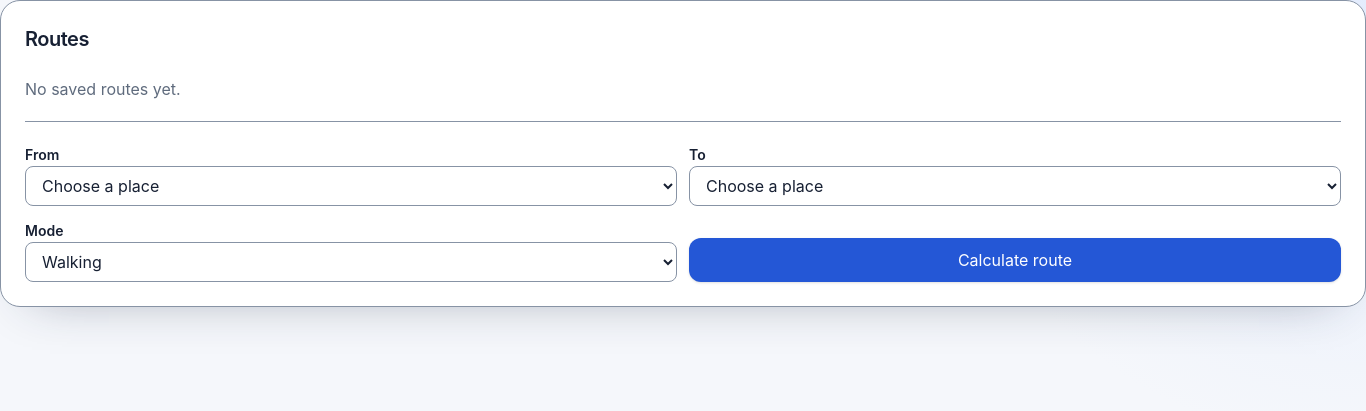
Test: RoutesSection › isolates provider errors and retains the editor
Select "Day 1 · 09:00 · Senso-ji" in the dropdown labelled "From" at (351, 186), box [25,166,677,206]
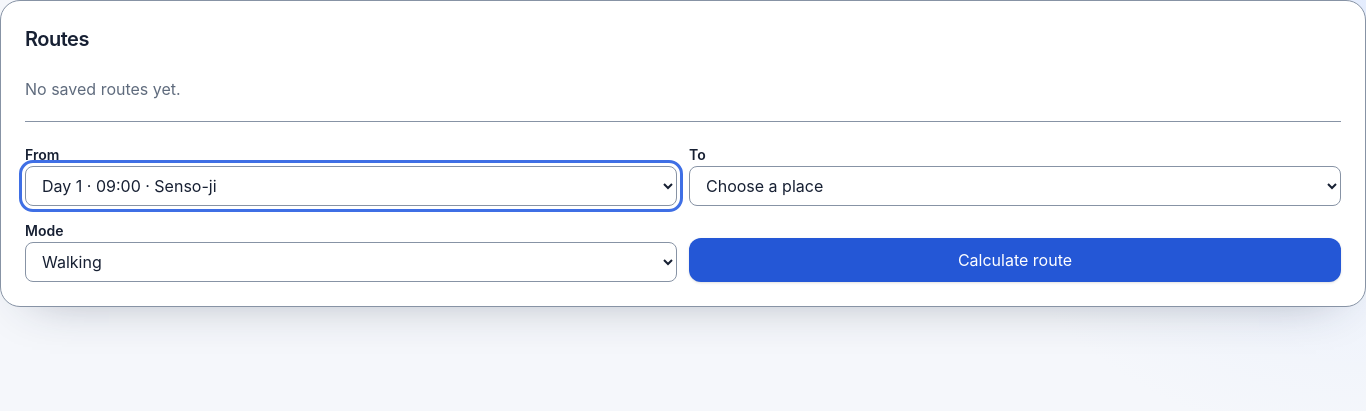
Select "Day 1 · 14:00 · Tokyo Skytree" in the dropdown labelled "To" at (1015, 186), box [689,166,1341,206]
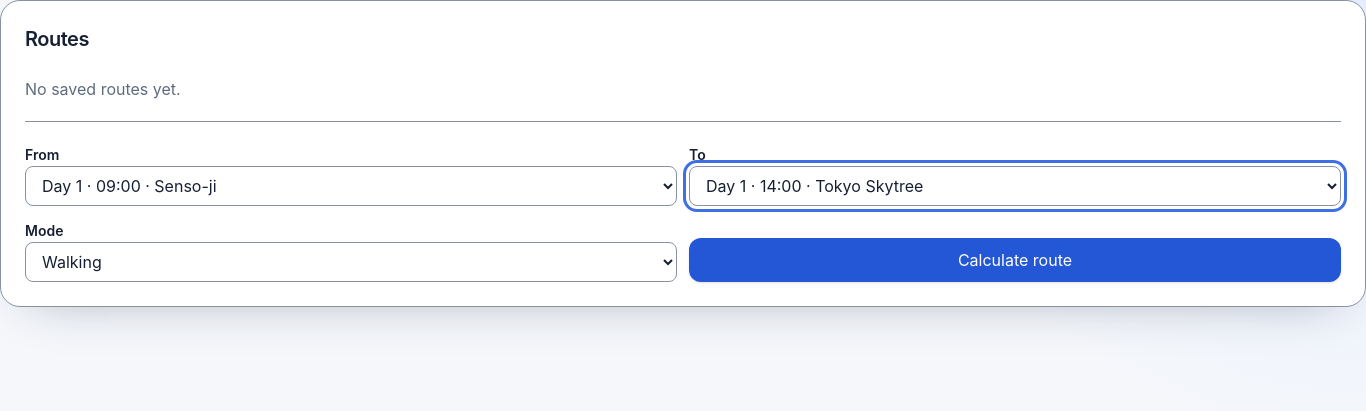
Click the button "Calculate route".
click(1015, 260)  # box [689,238,1341,282]
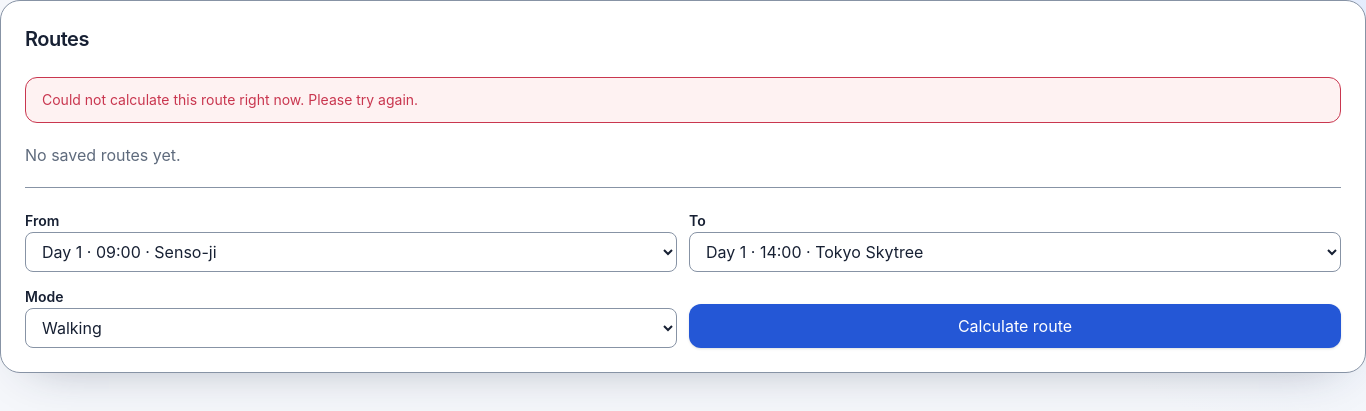
Now the message shows "Could not calculate this route right now", box [42,91,418,108]
